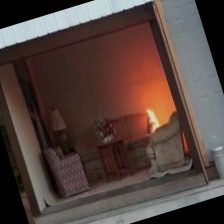fire: (138, 103, 164, 138)
